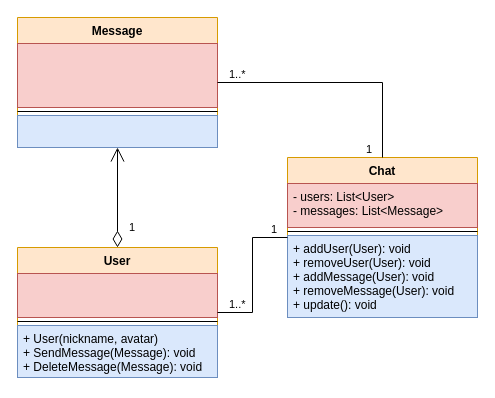
Some shapes in this 495 by 398 pixel diagram are drawn without their labels. The shapes that lost their labels are listed below. From the top down, each one's centre as x and y in pixels, then its label:
the point at 117,75: - author: User - data: Date - time: Time - text: String
the point at 117,131: + Message(author,data, time, text)
the point at 117,295: - nickname: String - avatar: Image
